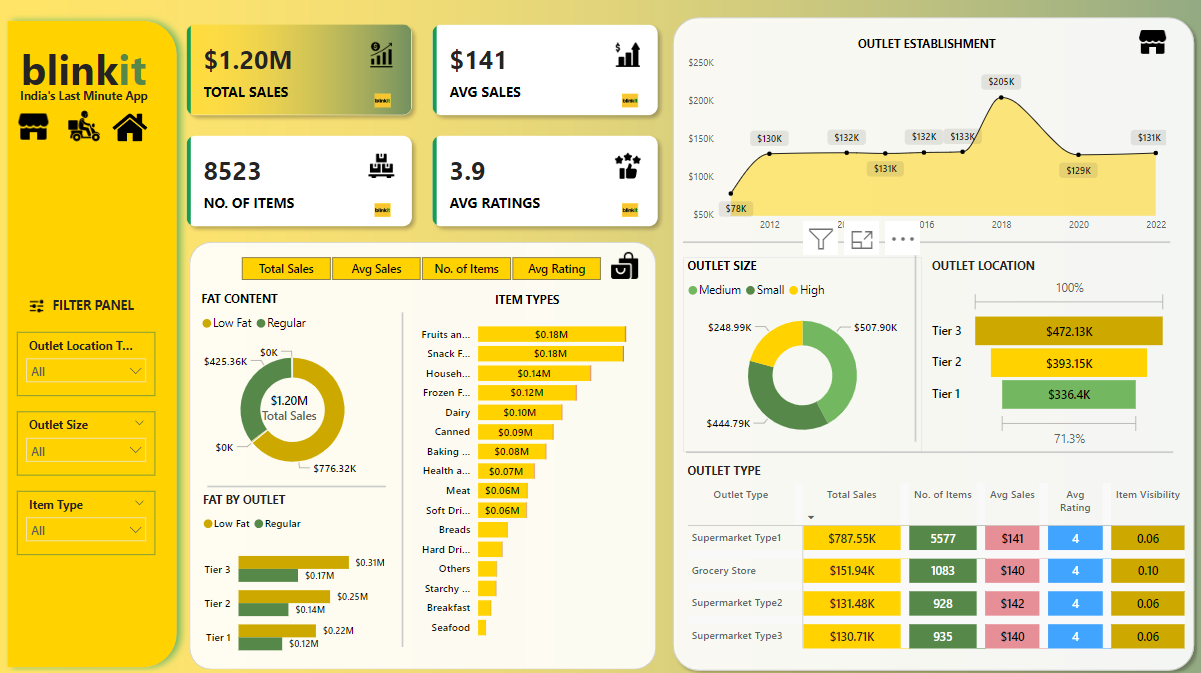

This screenshot's page, from the dashboard's own definition file:
{"tool":"powerbi","page":{"name":"BlinkIt","canvas":[1400,800],"ordinal":0},"visuals":[{"type":"shape","box":[0,26,222.3,774.5],"z":0},{"type":"textbox","box":[18,56,168,76],"z":1000},{"type":"textbox","box":[8.7,111.1,185.8,38.2],"z":2000},{"type":"cardVisual","fields":{"Data":["BlinkIT Grocery Data.Total Sales","BlinkIT Grocery Data.Avg Sales","BlinkIT Grocery Data.No. of Items","BlinkIT Grocery Data.Avg Rating"]},"box":[203.2,26,581.8,269.2],"z":3000},{"type":"shape","box":[224,295.2,540.1,494.9],"z":4000},{"type":"donutChart","title":"FAT CONTENT","fields":{"Y":["BlinkIT Grocery Data.Total Sales","BlinkIT Grocery Data.Avg Sales","BlinkIT Grocery Data.No. of Items","BlinkIT Grocery Data.Avg Rating"],"Category":["BlinkIT Grocery Data.Item Fat Content"]},"box":[232.7,350.8,220.6,229.2],"z":5000},{"type":"slicer","fields":{"Values":["Metrics.Metrics"]},"box":[258.8,305.7,465.4,39.9],"z":6000},{"type":"cardVisual","fields":{"Data":["BlinkIT Grocery Data.Total Sales"]},"box":[288.3,451.5,102.5,64.3],"z":7000},{"type":"clusteredBarChart","title":"FAT BY OUTLET","fields":{"Y":["BlinkIT Grocery Data.Total Sales"],"Category":["BlinkIT Grocery Data.Outlet Location Type"],"Series":["BlinkIT Grocery Data.Item Fat Content"]},"box":[234.4,583.5,220.6,206.7],"z":8000},{"type":"shape","box":[244.9,550.5,206.7,55.6],"z":9000},{"type":"shape","box":[442.8,376.9,55.6,387.3],"z":10000},{"type":"barChart","title":"ITEM TYPES","fields":{"Y":["BlinkIT Grocery Data.Total Sales","BlinkIT Grocery Data.Avg Sales","BlinkIT Grocery Data.No. of Items","BlinkIT Grocery Data.Avg Rating"],"Category":["BlinkIT Grocery Data.Item Type"]},"box":[476,352,278,412],"z":11000},{"type":"shape","box":[774.5,26,621.7,774.5],"z":12000},{"type":"lineChart","title":"OUTLET ESTABLISHMENT","fields":{"Category":["BlinkIT Grocery Data.Outlet Establishment Year"],"Y":["BlinkIT Grocery Data.Total Sales"]},"box":[796,56,564,236],"z":13000},{"type":"shape","box":[796,268,564,56],"z":14000},{"type":"donutChart","title":"OUTLET SIZE","fields":{"Y":["BlinkIT Grocery Data.Total Sales"],"Category":["BlinkIT Grocery Data.Outlet Size"]},"box":[796,312,276,226],"z":15000},{"type":"funnel","title":"OUTLET LOCATION","fields":{"Y":["Sum(BlinkIT Grocery Data.Sales)"],"Category":["BlinkIT Grocery Data.Outlet Location Type"]},"box":[1078,312,282,226],"z":16000},{"type":"shape","box":[798,510,564,56],"z":17000},{"type":"shape","box":[1036.8,310.9,55.6,215.3],"z":18000},{"type":"pivotTable","title":"OUTLET TYPE","fields":{"Rows":["BlinkIT Grocery Data.Outlet Type"],"Values":["BlinkIT Grocery Data.Total Sales","BlinkIT Grocery Data.No. of Items","BlinkIT Grocery Data.Avg Sales","BlinkIT Grocery Data.Avg Rating","Avg(BlinkIT Grocery Data.Item Visibility)"]},"box":[795.4,550.5,587,224],"z":19000},{"type":"slicer","fields":{"Values":["BlinkIT Grocery Data.Outlet Location Type"]},"box":[24.3,399.3,160,74],"z":20000},{"type":"slicer","fields":{"Values":["BlinkIT Grocery Data.Outlet Size"]},"box":[24.3,491.3,160,74],"z":21000},{"type":"slicer","fields":{"Values":["BlinkIT Grocery Data.Item Type"]},"box":[24.3,583.3,160,74],"z":22000},{"type":"textbox","box":[32.8,352.5,158.8,45],"z":23000},{"type":"image","box":[32.5,350.1,27.8,36.7],"z":24000},{"type":"image","box":[706.8,298.7,41.7,46.9],"z":25000},{"type":"image","box":[1318.1,39.9,41.7,46.9],"z":26000},{"type":"image","box":[76,137,51.5,47],"z":27000},{"type":"image","box":[18,139,52,45],"z":28000},{"type":"image","box":[116.5,137,77,50],"z":29000},{"type":"image","box":[429.4,118.7,37,26],"z":30000},{"type":"image","box":[429.6,245.7,37,26],"z":31000},{"type":"image","box":[715.4,118.5,37,26],"z":32000},{"type":"image","box":[716,245.7,37,26],"z":33000}]}

Visuals, with their boxes in screenshot pixels (x1, y1, x2, y2), scaled from the page's 1400x800 canvas onto the 1201x673 screenshot:
shape: {"left": 0, "top": 22, "right": 191, "bottom": 672}
textbox: {"left": 15, "top": 47, "right": 160, "bottom": 111}
textbox: {"left": 7, "top": 93, "right": 167, "bottom": 126}
cardVisual - BlinkIT Grocery Data.Total Sales x BlinkIT Grocery Data.Avg Sales: {"left": 174, "top": 22, "right": 673, "bottom": 248}
shape: {"left": 192, "top": 248, "right": 655, "bottom": 665}
"FAT CONTENT" donutChart: {"left": 200, "top": 295, "right": 389, "bottom": 488}
slicer - Metrics.Metrics: {"left": 222, "top": 257, "right": 621, "bottom": 291}
cardVisual - BlinkIT Grocery Data.Total Sales: {"left": 247, "top": 380, "right": 335, "bottom": 434}
"FAT BY OUTLET" clusteredBarChart: {"left": 201, "top": 491, "right": 390, "bottom": 665}
shape: {"left": 210, "top": 463, "right": 387, "bottom": 510}
shape: {"left": 380, "top": 317, "right": 428, "bottom": 643}
"ITEM TYPES" barChart: {"left": 408, "top": 296, "right": 647, "bottom": 643}
shape: {"left": 664, "top": 22, "right": 1198, "bottom": 672}
"OUTLET ESTABLISHMENT" lineChart: {"left": 683, "top": 47, "right": 1167, "bottom": 246}
shape: {"left": 683, "top": 225, "right": 1167, "bottom": 273}
"OUTLET SIZE" donutChart: {"left": 683, "top": 262, "right": 920, "bottom": 453}
"OUTLET LOCATION" funnel: {"left": 925, "top": 262, "right": 1167, "bottom": 453}
shape: {"left": 685, "top": 429, "right": 1168, "bottom": 476}
shape: {"left": 889, "top": 262, "right": 937, "bottom": 443}
"OUTLET TYPE" pivotTable: {"left": 682, "top": 463, "right": 1186, "bottom": 652}
slicer - BlinkIT Grocery Data.Outlet Location Type: {"left": 21, "top": 336, "right": 158, "bottom": 398}
slicer - BlinkIT Grocery Data.Outlet Size: {"left": 21, "top": 413, "right": 158, "bottom": 476}
slicer - BlinkIT Grocery Data.Item Type: {"left": 21, "top": 491, "right": 158, "bottom": 553}
textbox: {"left": 28, "top": 297, "right": 164, "bottom": 334}
image: {"left": 28, "top": 295, "right": 52, "bottom": 325}
image: {"left": 606, "top": 251, "right": 642, "bottom": 291}
image: {"left": 1131, "top": 34, "right": 1167, "bottom": 73}
image: {"left": 65, "top": 115, "right": 109, "bottom": 155}
image: {"left": 15, "top": 117, "right": 60, "bottom": 155}
image: {"left": 100, "top": 115, "right": 166, "bottom": 157}
image: {"left": 368, "top": 100, "right": 400, "bottom": 122}
image: {"left": 369, "top": 207, "right": 400, "bottom": 229}
image: {"left": 614, "top": 100, "right": 645, "bottom": 122}
image: {"left": 614, "top": 207, "right": 646, "bottom": 229}
